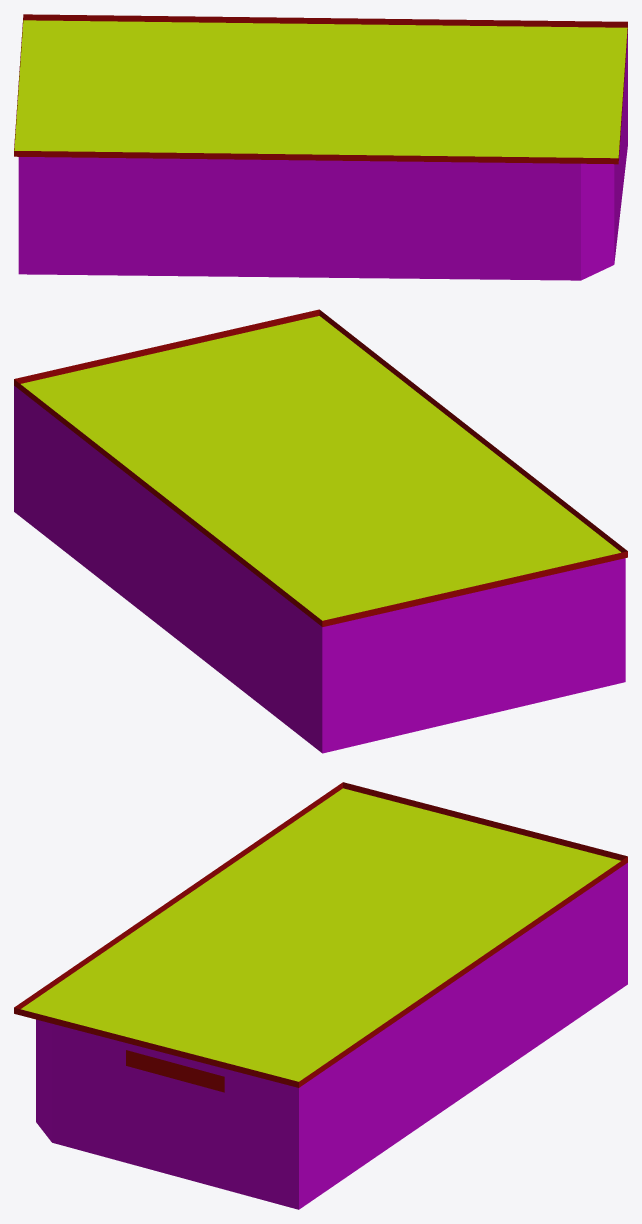
File: bgj_121.glb
3 views of the same model, one above another, from view 1: azimuth 30°, elevation 25°; view 2: azimuth 150°, elevation 25°; view 3: azimuth 270°, elevation 25° (orthographic). The views are drawn at different scales.
Parts seen in each view (by area): view 1: bgj_121; view 2: bgj_121; view 3: bgj_121.
Boxes of the visible parts, x1=… form: bgj_121: x1=14, y1=14, x2=627, y2=280; bgj_121: x1=14, y1=309, x2=627, y2=753; bgj_121: x1=14, y1=782, x2=627, y2=1209.
Bounding box in the file's own units: 36.43 × 7.26 × 31.54.
